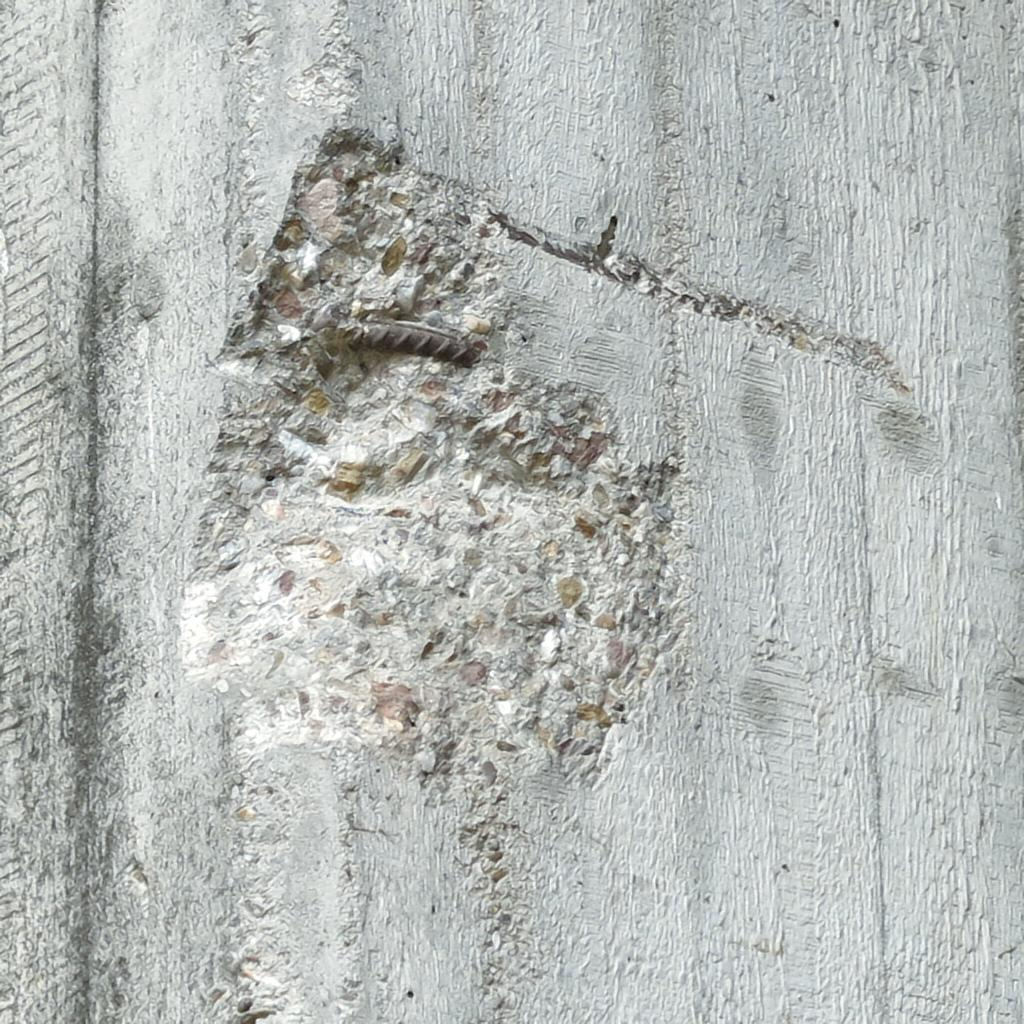exposed_rebar: (350, 322, 480, 367)
spalling: (192, 130, 896, 795)
